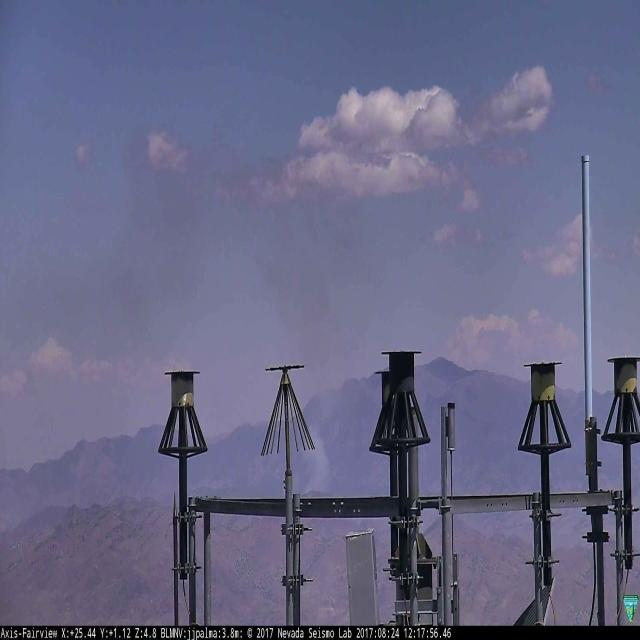smoke: (0, 124, 378, 496)
